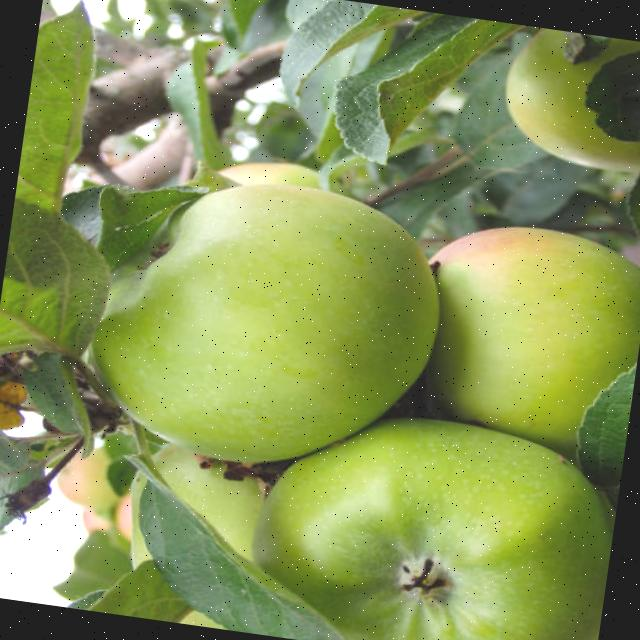Unripe: (72, 162, 456, 489), (234, 399, 625, 640)
